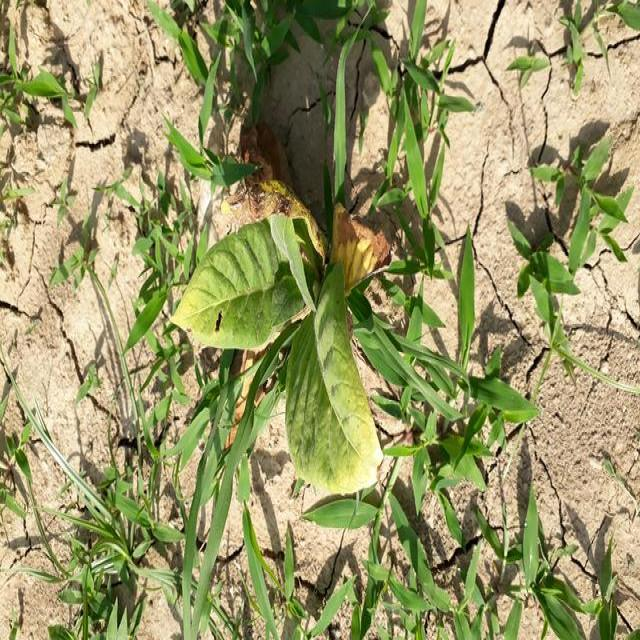crop: (178, 150, 386, 495)
